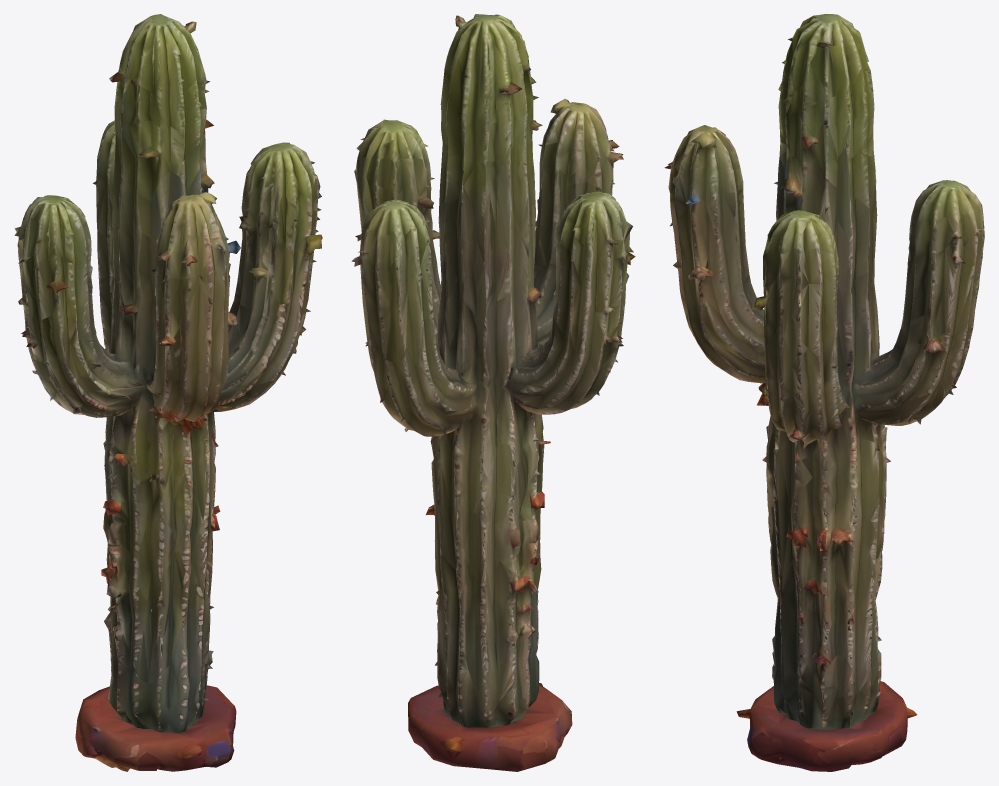
Rendered from prop_mile_cactus.fbx.
3 renders of one model, left to right at view 1: azimuth 30°, elevation 25°; view 2: azimuth 150°, elevation 25°; view 3: azimuth 270°, elevation 25°, orthographic.
Visible parts, largest first — view 1: prop_mile_cactus_LOD0; view 2: prop_mile_cactus_LOD0; view 3: prop_mile_cactus_LOD0.
Boxes of the visible parts, x1,y1,x2,y2 form: prop_mile_cactus_LOD0: [14, 14, 322, 771]; prop_mile_cactus_LOD0: [351, 14, 635, 771]; prop_mile_cactus_LOD0: [664, 14, 984, 771].
Size of what is drawn, in the model's own units: 0.4 by 0.9802 by 0.3906.
